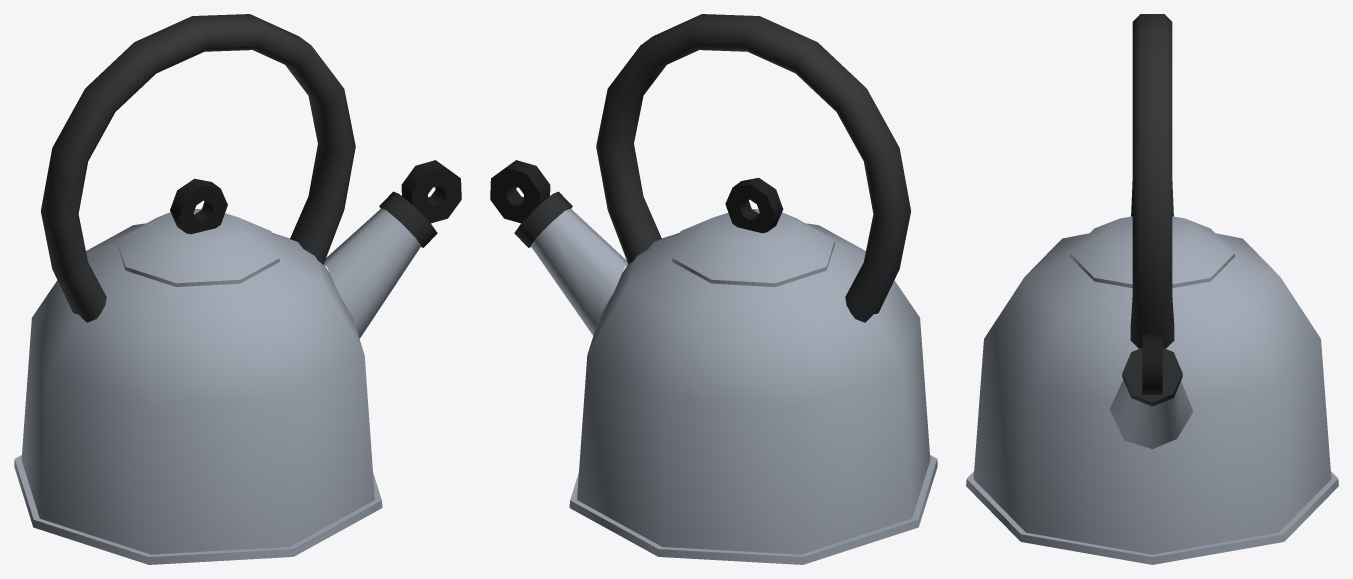
File: Kettle.glb
The picture shows the model from 3 angles, left to right: view 1: azimuth 30°, elevation 25°; view 2: azimuth 150°, elevation 25°; view 3: azimuth 270°, elevation 25°; orthographic projection. The views are drawn at different scales.
Visible parts, largest first — view 1: misc_kettle_Cylinder.017, misc_kettle_cover_Cylinder.018, misc_kettle_nozzle_Cylinder.019; view 2: misc_kettle_Cylinder.017, misc_kettle_cover_Cylinder.018, misc_kettle_nozzle_Cylinder.019; view 3: misc_kettle_Cylinder.017, misc_kettle_cover_Cylinder.018, misc_kettle_nozzle_Cylinder.019.
Part boxes in pixels (x1,y1,x2,y2): misc_kettle_Cylinder.017: (14,14,420,564); misc_kettle_cover_Cylinder.018: (117,178,279,286); misc_kettle_nozzle_Cylinder.019: (379,160,461,247); misc_kettle_Cylinder.017: (531,14,937,564); misc_kettle_cover_Cylinder.018: (672,177,834,286); misc_kettle_nozzle_Cylinder.019: (490,160,572,247); misc_kettle_Cylinder.017: (966,14,1338,564); misc_kettle_cover_Cylinder.018: (1070,216,1234,288); misc_kettle_nozzle_Cylinder.019: (1122,334,1182,406).
Bounding box in the file's own units: 6.02 × 6.34 × 4.69.
1 material, 1 textured.
